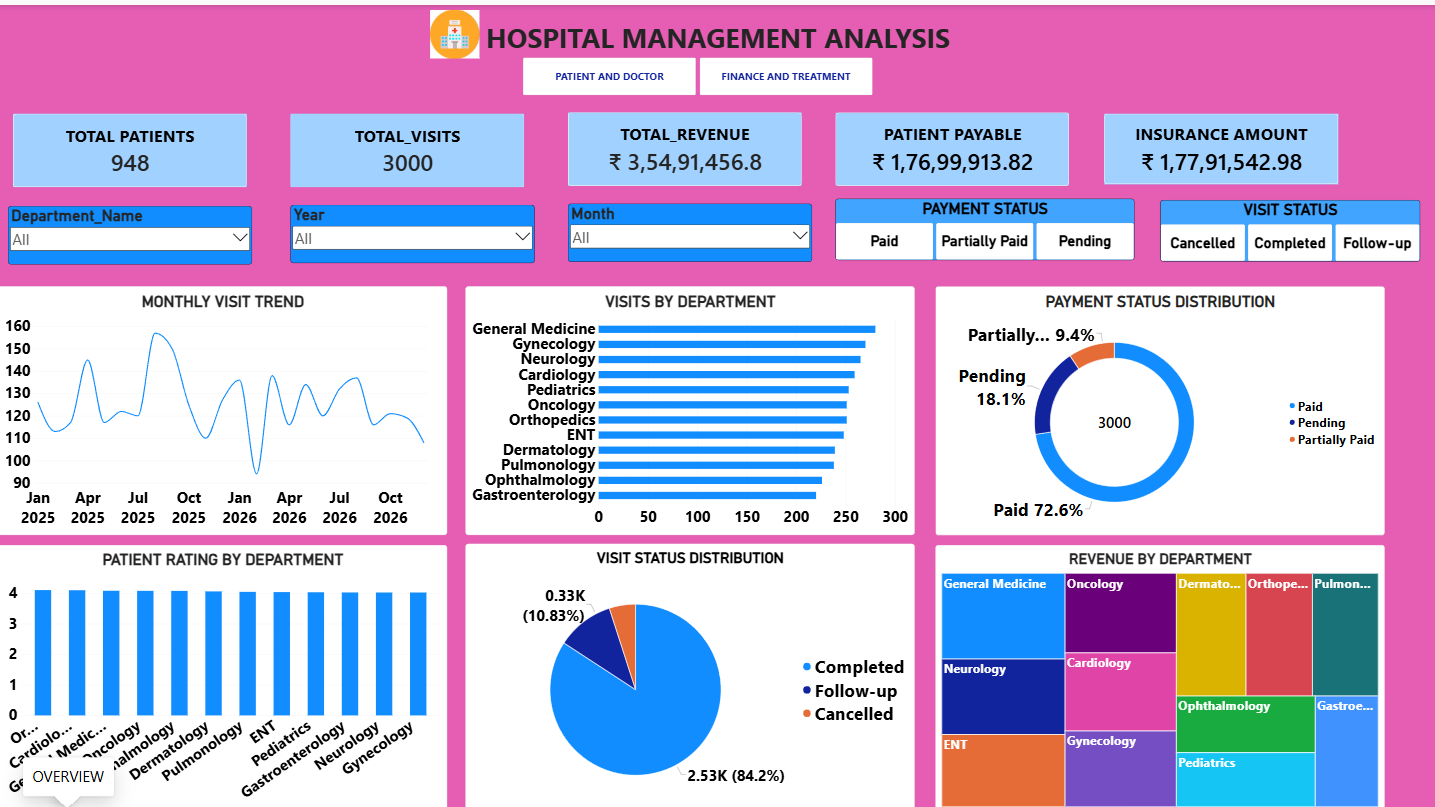

This screenshot's page, from the dashboard's own definition file:
{"tool":"powerbi","page":{"name":"OVERVIEW","canvas":[3840,2160],"ordinal":0},"visuals":[{"type":"textbox","box":[26.5,0,3814.4,141.3],"z":0},{"type":"cardVisual","fields":{"Data":["hospital_management1 dim_date.TOTAL PATIENTS"]},"box":[39.7,291.4,624.9,196.2],"z":1000},{"type":"cardVisual","fields":{"Data":["hospital_management1 dim_date.TOTAL_VISITS"]},"box":[781.4,291.4,624,196],"z":2000},{"type":"cardVisual","fields":{"Data":["hospital_management1 dim_date.TOTAL_REVENUE"]},"box":[1523.1,287,624,196],"z":3000},{"type":"cardVisual","fields":{"Data":["Sum(hospital_management1 fact_hospital.Patient_Payable)"]},"box":[2238.3,287,624,196],"z":4000},{"type":"cardVisual","fields":{"Data":["Sum(hospital_management1 fact_hospital.Insurance_Amount)"]},"box":[2957,289.7,625.4,188.6],"z":5000},{"type":"lineChart","title":"MONTHLY VISIT TREND","fields":{"Category":["hospital_management1 dim_date.Date.Variation.Date Hierarchy.Year","hospital_management1 dim_date.Date.Variation.Date Hierarchy.Quarter","hospital_management1 dim_date.Date.Variation.Date Hierarchy.Month","hospital_management1 dim_date.Date.Variation.Date Hierarchy.Day"],"Y":["hospital_management1 dim_date.TOTAL_VISITS"]},"box":[0,750.5,1200,664.4],"z":6000},{"type":"clusteredBarChart","title":"VISITS BY DEPARTMENT","fields":{"Category":["hospital_management1 dim_department.Department_Name"],"Y":["hospital_management1 dim_date.TOTAL_VISITS"]},"box":[1249.4,750.5,1200,664.4],"z":7000},{"type":"pieChart","title":"VISIT STATUS DISTRIBUTION","fields":{"Category":["hospital_management1 fact_hospital.Visit_Status"],"Y":["CountNonNull(hospital_management1 fact_hospital.Visit_ID)"]},"box":[1249.4,1439.2,1200,720.7],"z":8000},{"type":"columnChart","title":"PATIENT RATING BY DEPARTMENT","fields":{"Category":["hospital_management1 dim_department.Department_Name"],"Y":["hospital_management1 dim_date.AVERAGE_PATIENTRATING"]},"box":[0,1441.5,1200,719],"z":9000},{"type":"donutChart","title":"PAYMENT STATUS DISTRIBUTION","fields":{"Category":["hospital_management1 fact_hospital.Payment_Status"],"Y":["hospital_management1 dim_date.TOTAL_VISITS"]},"box":[2503.2,750.5,1200,664.4],"z":10000},{"type":"treemap","title":"REVENUE BY DEPARTMENT","fields":{"Group":["hospital_management1 dim_department.Department_Name"],"Values":["hospital_management1 dim_date.TOTAL_REVENUE"]},"box":[2503.2,1443.6,1200,719],"z":11000},{"type":"slicer","fields":{"Values":["hospital_management1 dim_department.Department_Name"]},"box":[26.5,538.6,652.3,155.1],"z":12000},{"type":"slicer","fields":{"Values":["hospital_management1 dim_date.Year"]},"box":[781.4,534.2,652.3,155.1],"z":13000},{"type":"slicer","fields":{"Values":["hospital_management1 dim_date.Month"]},"box":[1523.1,529.8,652.3,155.1],"z":14000},{"type":"advancedSlicerVisual","title":"PAYMENT STATUS","fields":{"Values":["hospital_management1 fact_hospital.Payment_Status"]},"box":[2238.3,516.5,798.3,164.2],"z":15000},{"type":"advancedSlicerVisual","title":"VISIT STATUS","fields":{"Values":["hospital_management1 fact_hospital.Visit_Status"]},"box":[3104.2,519.7,693.4,164.2],"z":16000},{"type":"image","box":[1110.2,13.4,223.8,129.8],"z":17000},{"type":"pageNavigator","box":[1403.9,141.3,935.9,101.5],"z":18000}]}

Visuals, with their boxes on the page's 3840x2160 design canvas (x1, y1, x2, y2). These are canvas units, not pixel positions in the 1435x807 screenshot, which may show the page scaled, cropped or inside an application window:
textbox: 26,0,3841,141
cardVisual - hospital_management1 dim_date.TOTAL PATIENTS: 40,291,665,488
cardVisual - hospital_management1 dim_date.TOTAL_VISITS: 781,291,1405,487
cardVisual - hospital_management1 dim_date.TOTAL_REVENUE: 1523,287,2147,483
cardVisual - Sum(hospital_management1 fact_hospital.Patient_Payable): 2238,287,2862,483
cardVisual - Sum(hospital_management1 fact_hospital.Insurance_Amount): 2957,290,3582,478
"MONTHLY VISIT TREND" lineChart: 0,750,1200,1415
"VISITS BY DEPARTMENT" clusteredBarChart: 1249,750,2449,1415
"VISIT STATUS DISTRIBUTION" pieChart: 1249,1439,2449,2160
"PATIENT RATING BY DEPARTMENT" columnChart: 0,1442,1200,2160
"PAYMENT STATUS DISTRIBUTION" donutChart: 2503,750,3703,1415
"REVENUE BY DEPARTMENT" treemap: 2503,1444,3703,2163
slicer - hospital_management1 dim_department.Department_Name: 26,539,679,694
slicer - hospital_management1 dim_date.Year: 781,534,1434,689
slicer - hospital_management1 dim_date.Month: 1523,530,2175,685
"PAYMENT STATUS" advancedSlicerVisual: 2238,516,3037,681
"VISIT STATUS" advancedSlicerVisual: 3104,520,3798,684
image: 1110,13,1334,143
pageNavigator: 1404,141,2340,243
